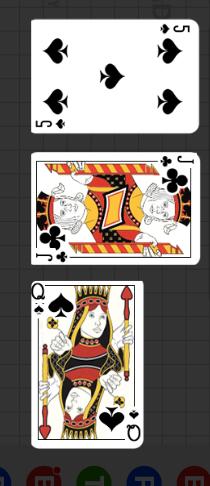5S: (157, 22, 191, 35)
9S: (126, 408, 142, 443)
JC: (35, 249, 69, 263)
